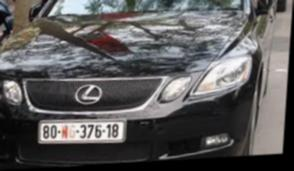License_Plate: (37, 115, 128, 148)
